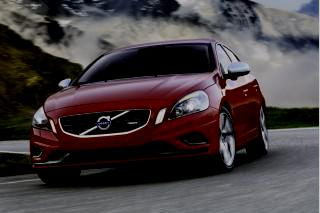volvo: (92, 111, 116, 134)
